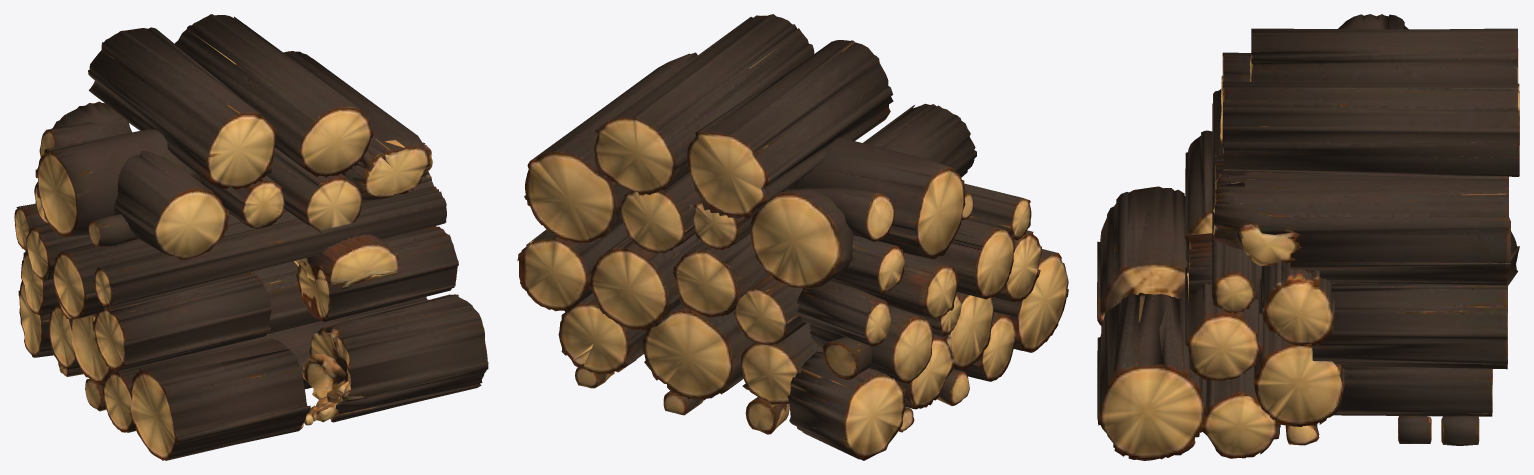
Rendered from firewood_pile.glb.
3 renders of one model, left to right at view 1: azimuth 30°, elevation 25°; view 2: azimuth 150°, elevation 25°; view 3: azimuth 270°, elevation 25°, orthographic. The views are drawn at different scales.
Bounding box in the file's own units: 0.9575 × 0.7315 × 0.8575.
1 material, 1 textured.
